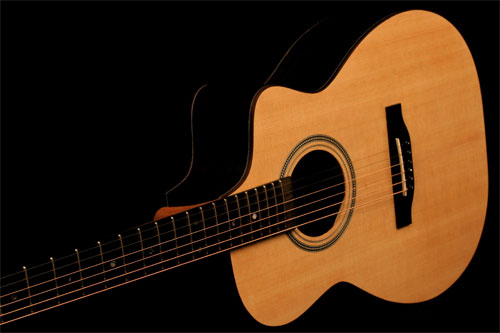guitar: (1, 10, 490, 333)
